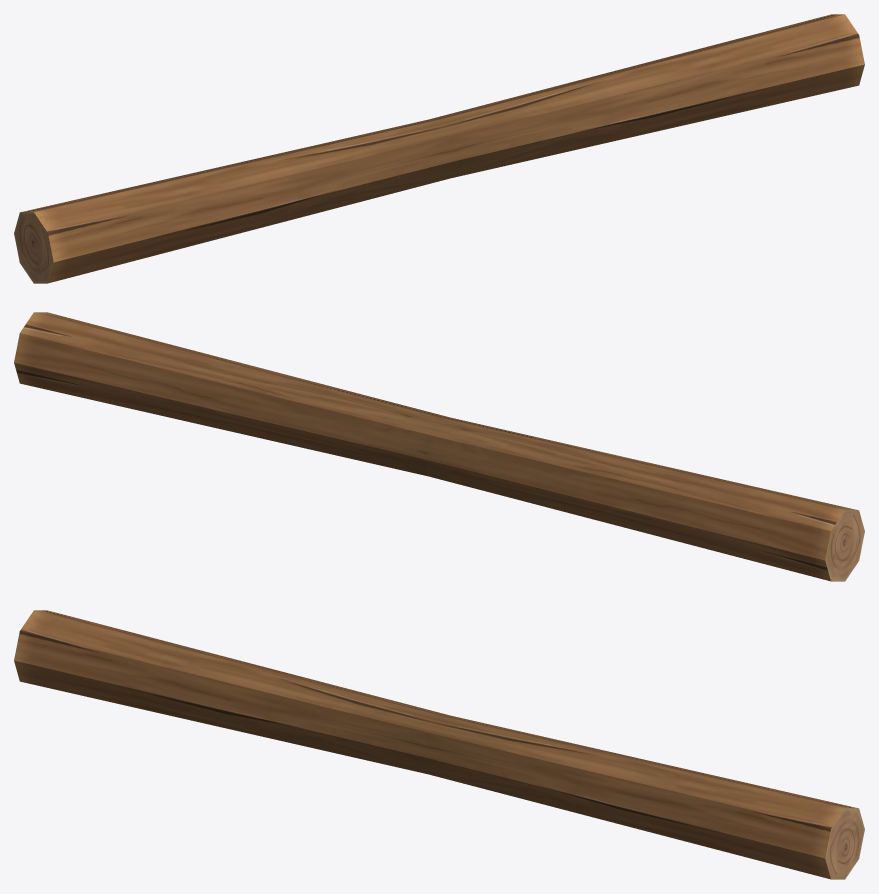
3 renders of one model, top to bottom at view 1: azimuth 30°, elevation 25°; view 2: azimuth 150°, elevation 25°; view 3: azimuth 330°, elevation 25°, orthographic.
Visible parts, largest first — view 1: part_08a:Mesh; view 2: part_08a:Mesh; view 3: part_08a:Mesh.
Part boxes in pixels (left/top/right/bottom): part_08a:Mesh: left=14, top=14, right=864, bottom=283; part_08a:Mesh: left=14, top=312, right=864, bottom=581; part_08a:Mesh: left=14, top=610, right=864, bottom=879.
Bounding box in the file's own units: 6.75 × 0.5682 × 0.5734.
